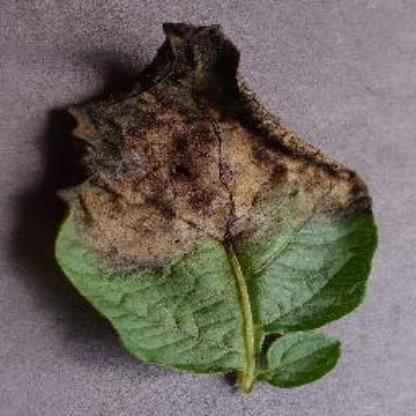Late-Blight: (40, 13, 380, 398)
